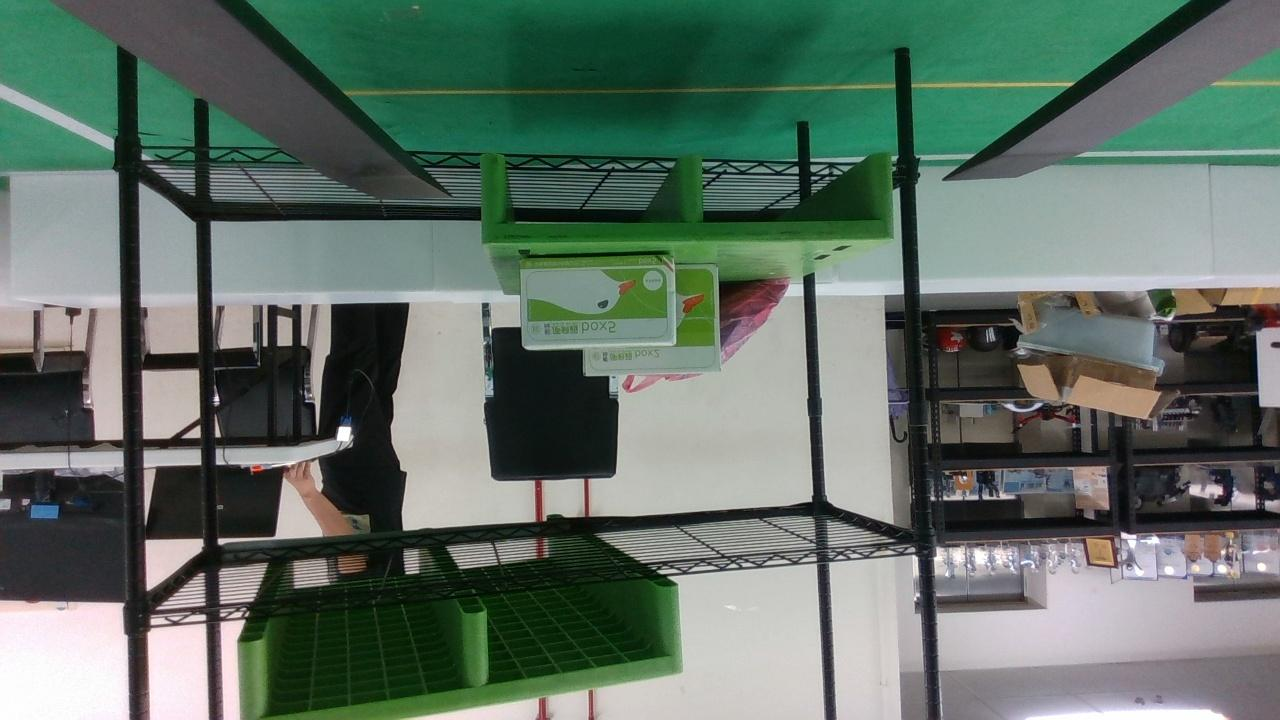Pallet: (233, 586, 688, 720), (478, 146, 893, 243)
